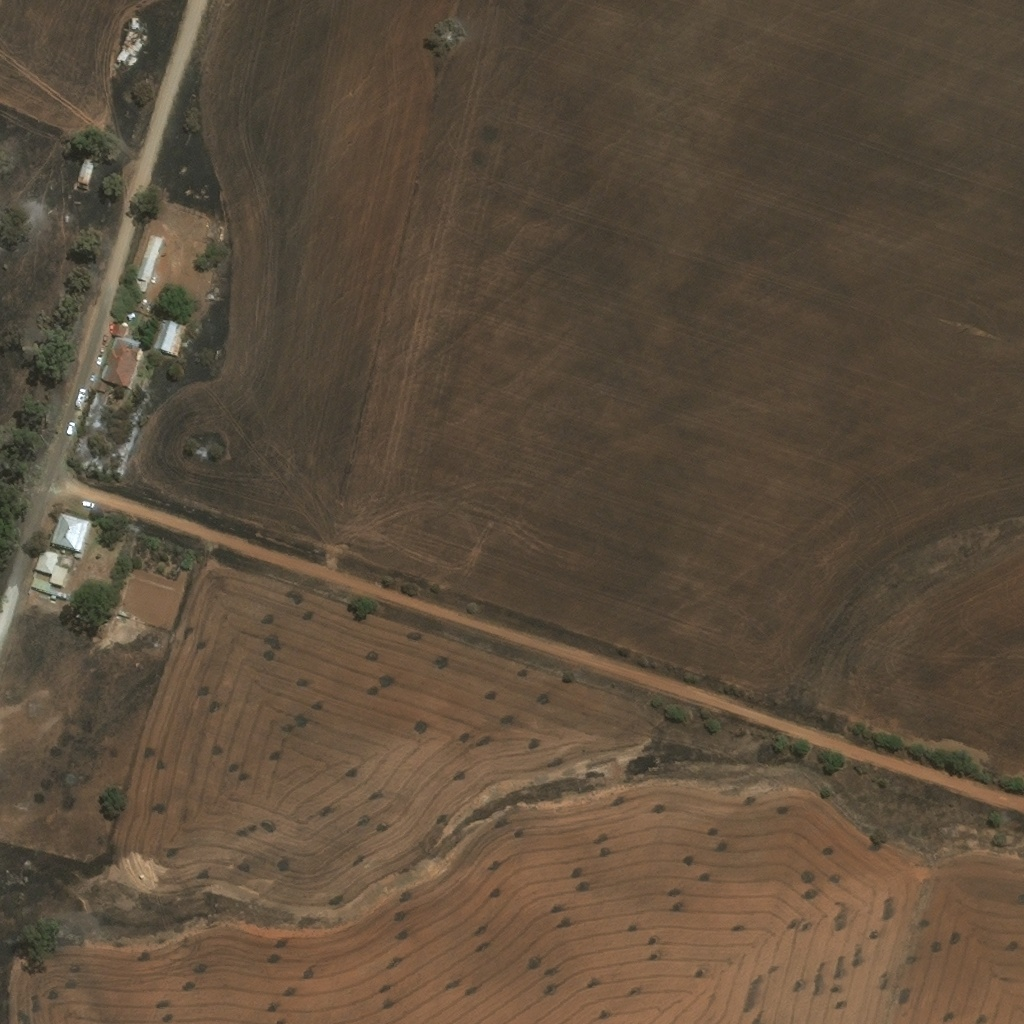0 no-damage: (101, 334, 144, 387), (131, 233, 163, 293), (48, 510, 90, 552), (152, 315, 187, 357), (33, 546, 69, 586), (76, 157, 95, 189), (112, 320, 129, 337), (72, 552, 80, 559)
1 minor-damage: (131, 16, 139, 28)
